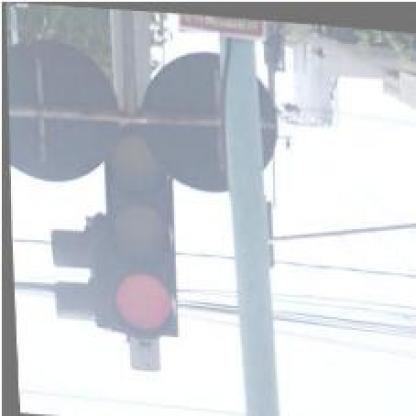red: (99, 123, 176, 335)
